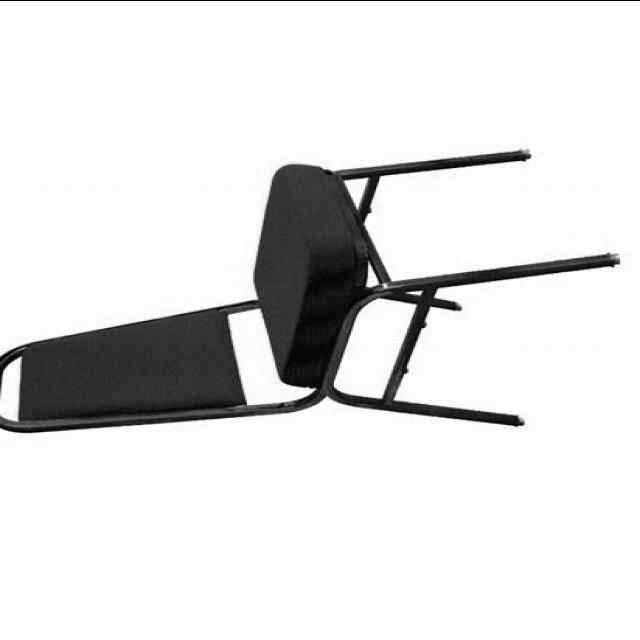chair: (0, 140, 624, 438)
